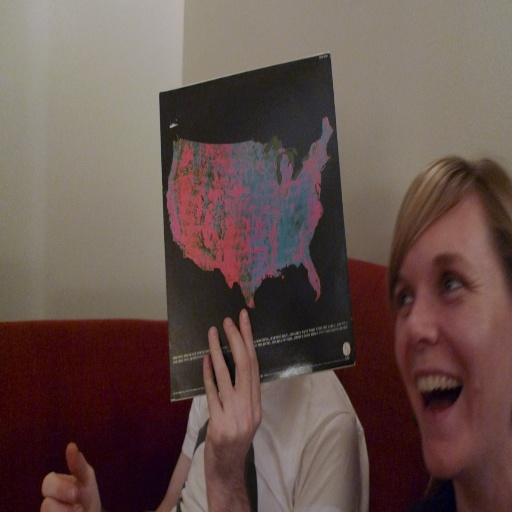hand: (199, 308, 264, 450), (39, 439, 102, 511)
